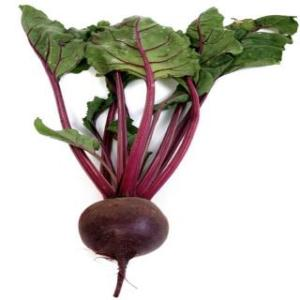beet: (79, 194, 172, 294)
